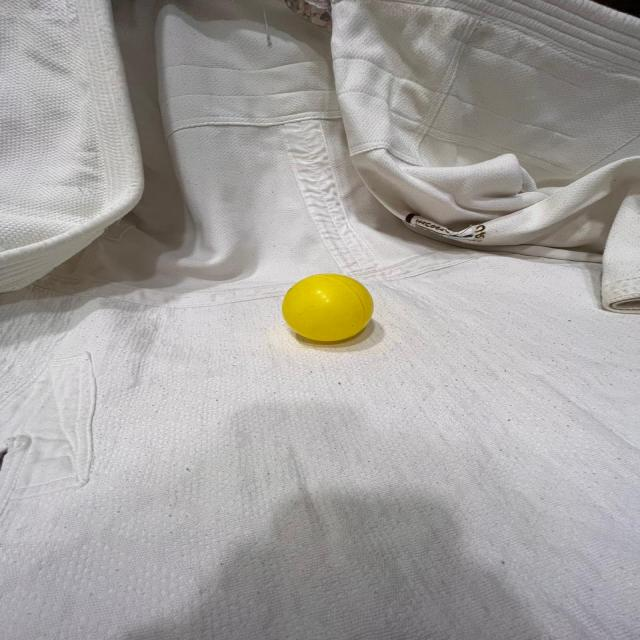ball: (278, 272, 376, 348)
